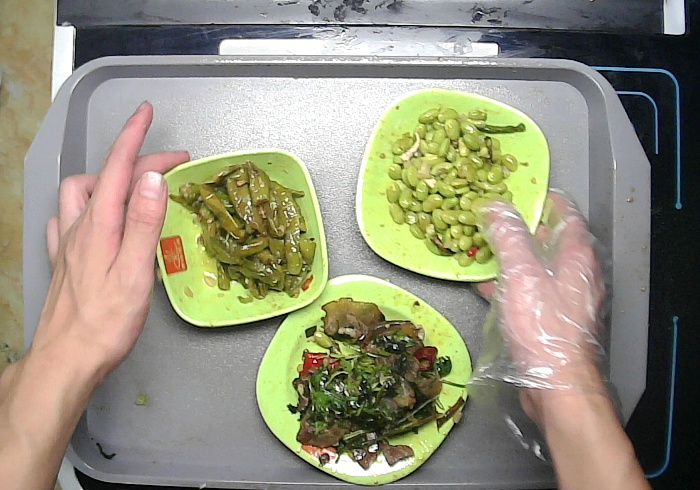SHKJ-Lv_Se_Cai_Die: (354, 88, 551, 283)
SHKJ-Lv_Se_Si_Fang_Cai_Die: (255, 272, 474, 485)
SHKJ-Lv_Se_Xiao_Fang_Die: (147, 148, 328, 326)
